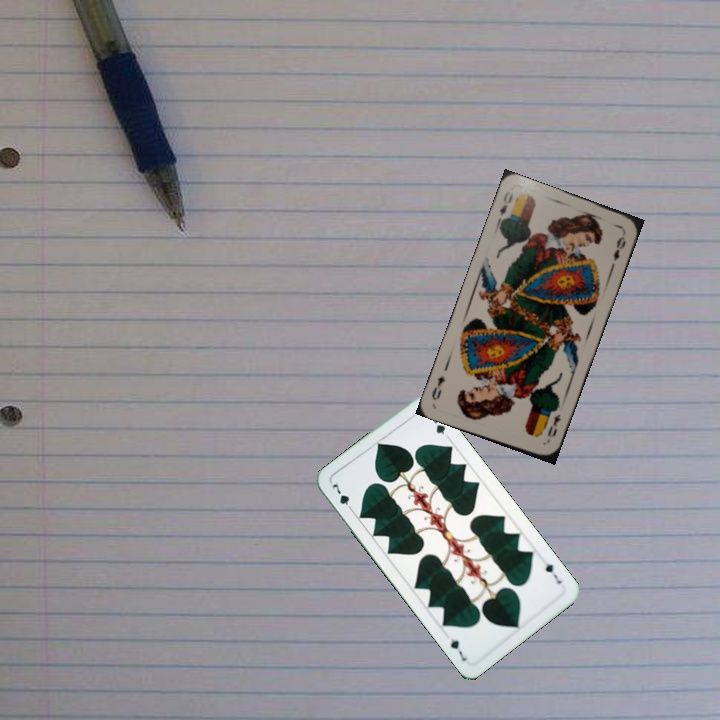EO: (493, 187, 515, 227), (543, 410, 564, 445)
G7: (326, 479, 356, 514), (541, 559, 564, 587)
